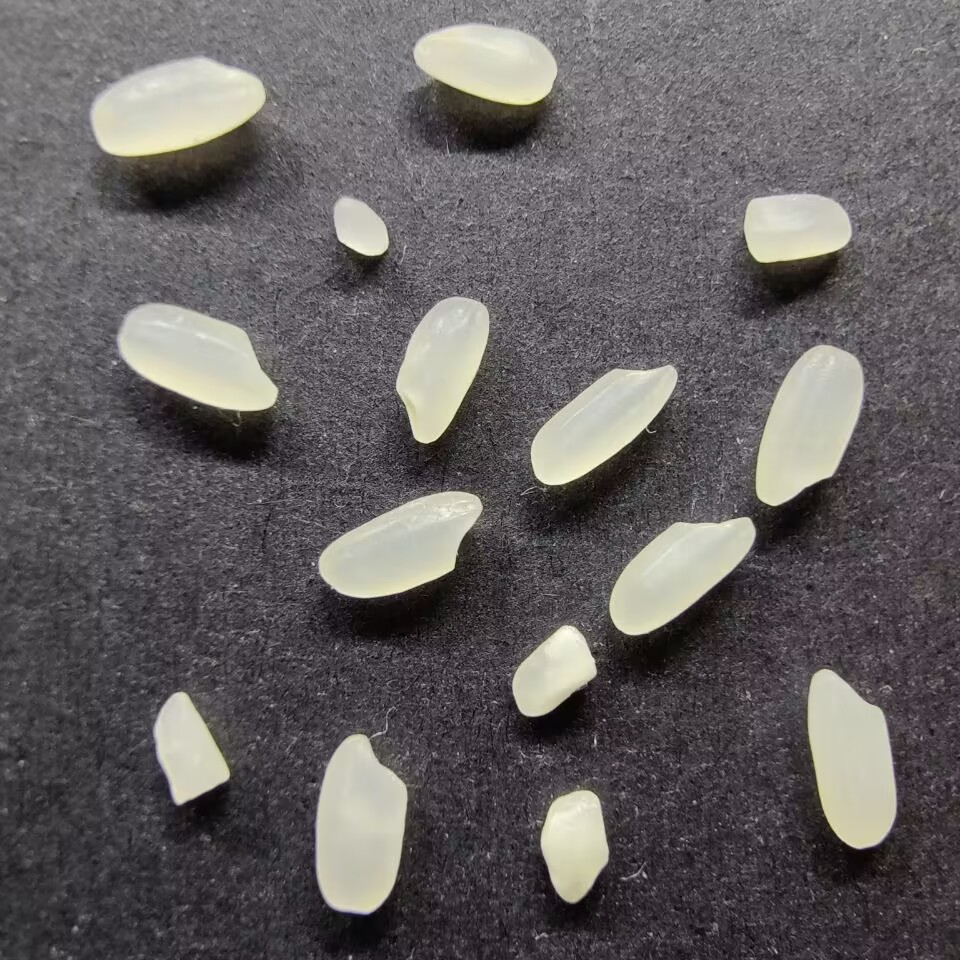broken: (150, 689, 231, 806), (539, 788, 611, 905), (509, 624, 598, 718), (741, 192, 853, 264), (332, 192, 391, 256)
rice: (527, 361, 680, 486), (315, 489, 483, 600), (115, 300, 280, 413), (89, 53, 266, 158), (606, 515, 757, 637), (754, 344, 866, 506), (310, 731, 409, 914), (803, 666, 898, 849), (391, 294, 490, 444), (411, 22, 558, 105)
